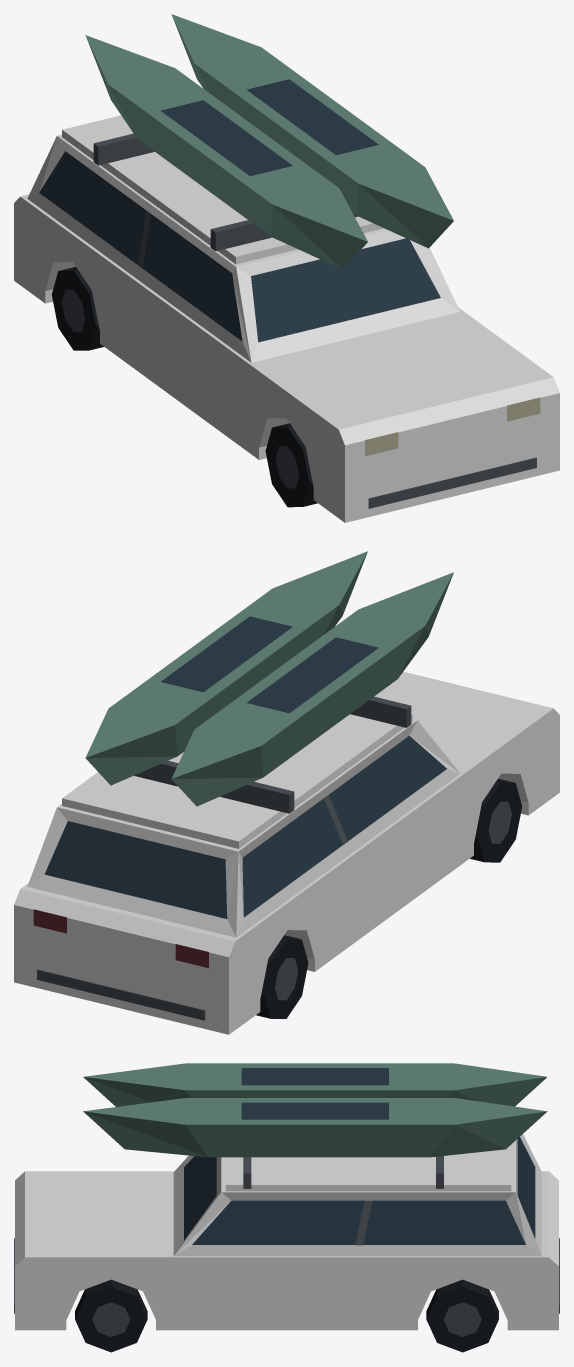
Rendered from wagon-with-kayaks.glb.
The picture shows the model from 3 angles, top to bottom: view 1: azimuth 30°, elevation 25°; view 2: azimuth 150°, elevation 25°; view 3: azimuth 270°, elevation 25°; orthographic projection. The views are drawn at different scales.
Parts seen in each view (by area): view 1: vehicle_body; view 2: vehicle_body; view 3: vehicle_body.
Part boxes in pixels (x1,y1,x2,y2): vehicle_body: [14, 14, 559, 522]; vehicle_body: [14, 551, 559, 1034]; vehicle_body: [14, 1063, 559, 1352].
Bounding box in the file's own units: 1.8 × 2.1 × 4.82.
